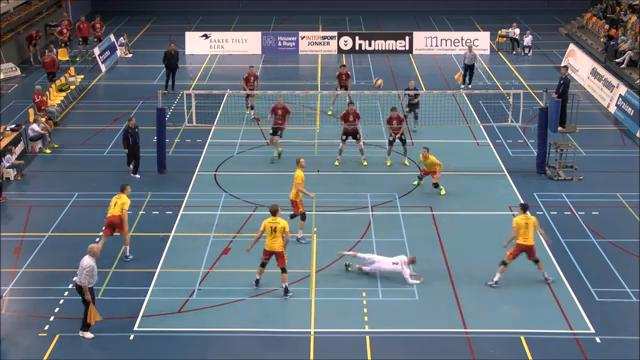Dig: (335, 246, 427, 288)
Player: (487, 203, 551, 286), (246, 205, 292, 297), (99, 184, 132, 260), (289, 157, 314, 243), (334, 102, 367, 165), (413, 147, 445, 195), (269, 96, 290, 162), (386, 106, 409, 165), (328, 64, 350, 114), (242, 66, 258, 118), (404, 80, 419, 130)
ball: (373, 77, 383, 88)
